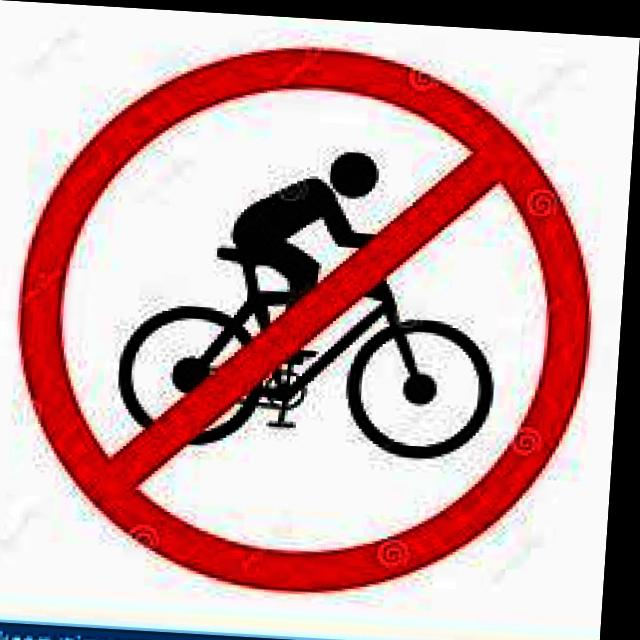CYCLE_PROHIBITED: (6, 20, 609, 602)
